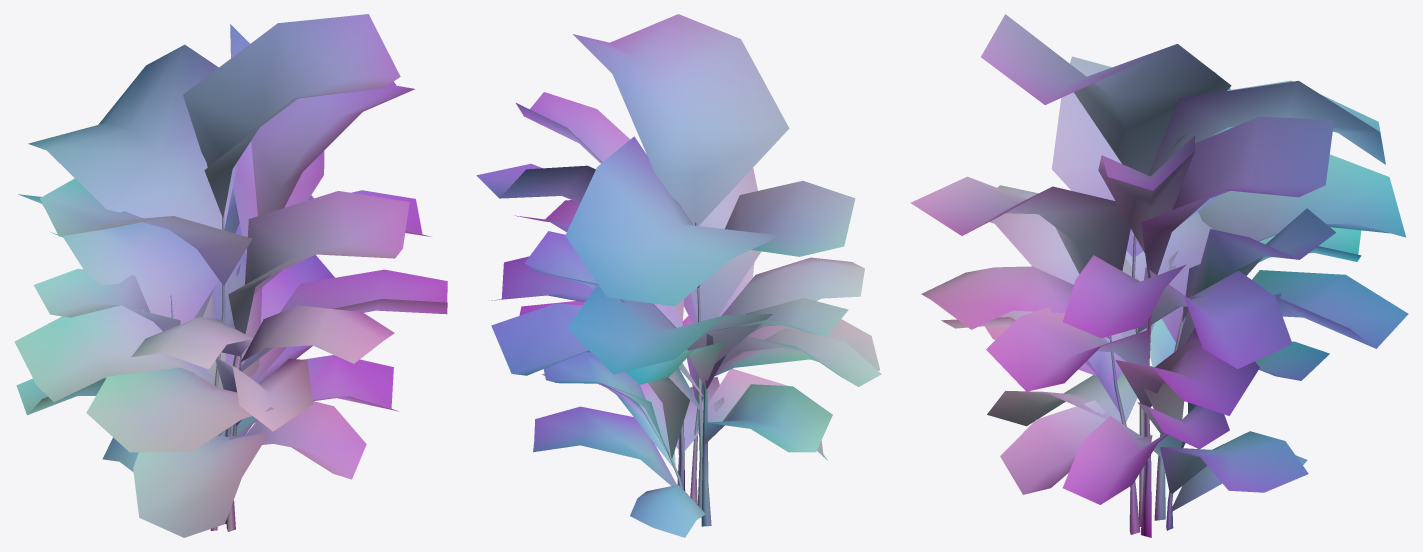
3 renders of one model, left to right at view 1: azimuth 30°, elevation 25°; view 2: azimuth 150°, elevation 25°; view 3: azimuth 270°, elevation 25°, orthographic. The views are drawn at different scales.
Parts seen in each view (by area): view 1: SM_BS_ArecaPalm_360cm; view 2: SM_BS_ArecaPalm_360cm; view 3: SM_BS_ArecaPalm_360cm.
Part boxes in pixels (box(x1,y1,x2,y2)): SM_BS_ArecaPalm_360cm: box(14, 14, 447, 537); SM_BS_ArecaPalm_360cm: box(476, 14, 881, 537); SM_BS_ArecaPalm_360cm: box(910, 14, 1408, 537).
Bounding box in the file's own units: 103 × 101 × 122.
